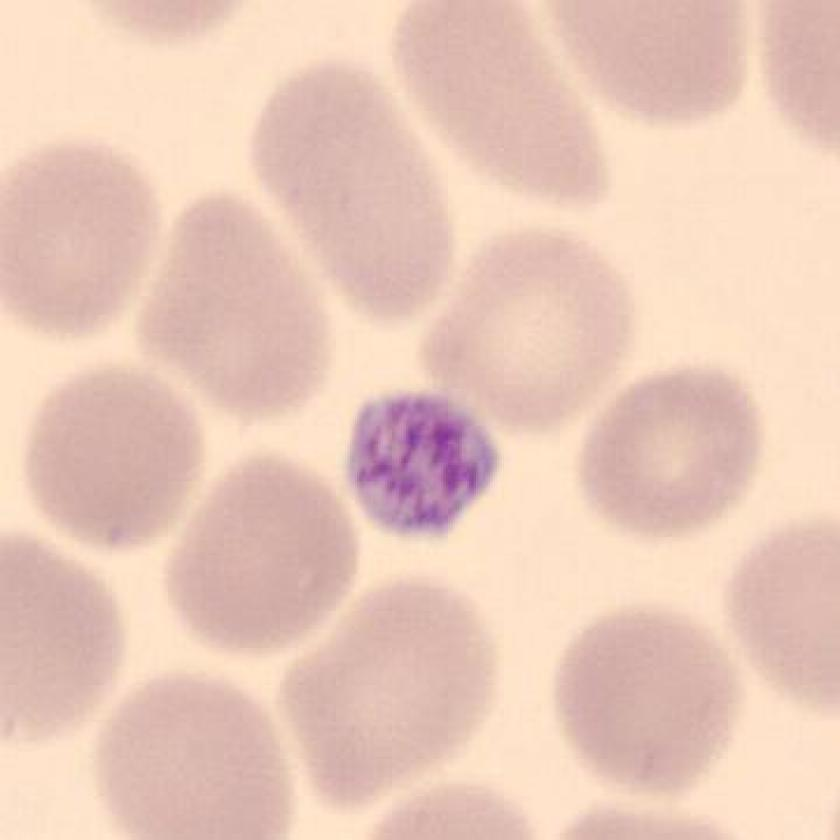platelets: (330, 381, 510, 550)
